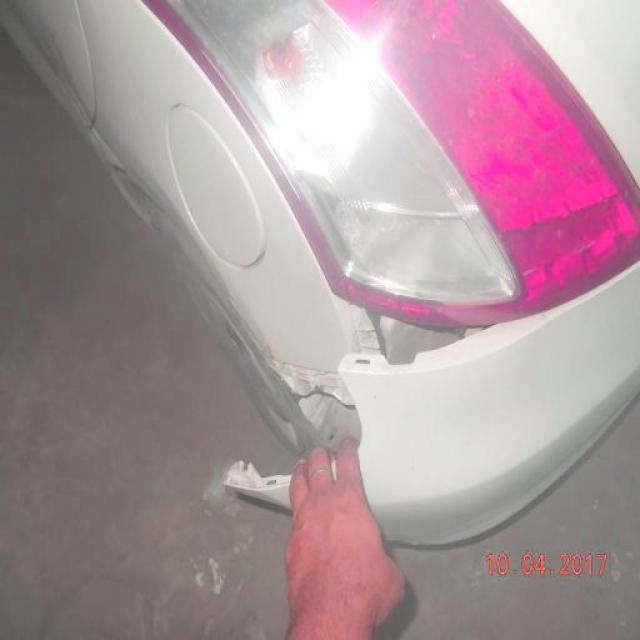car damage: (229, 307, 505, 488)
